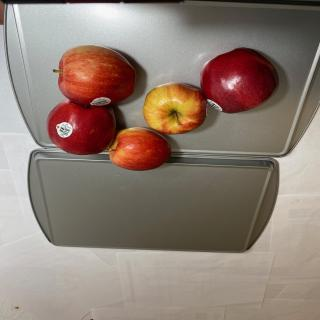Apple: (200, 47, 279, 114), (53, 44, 136, 106), (46, 99, 116, 156), (142, 82, 208, 135), (108, 127, 172, 171)
